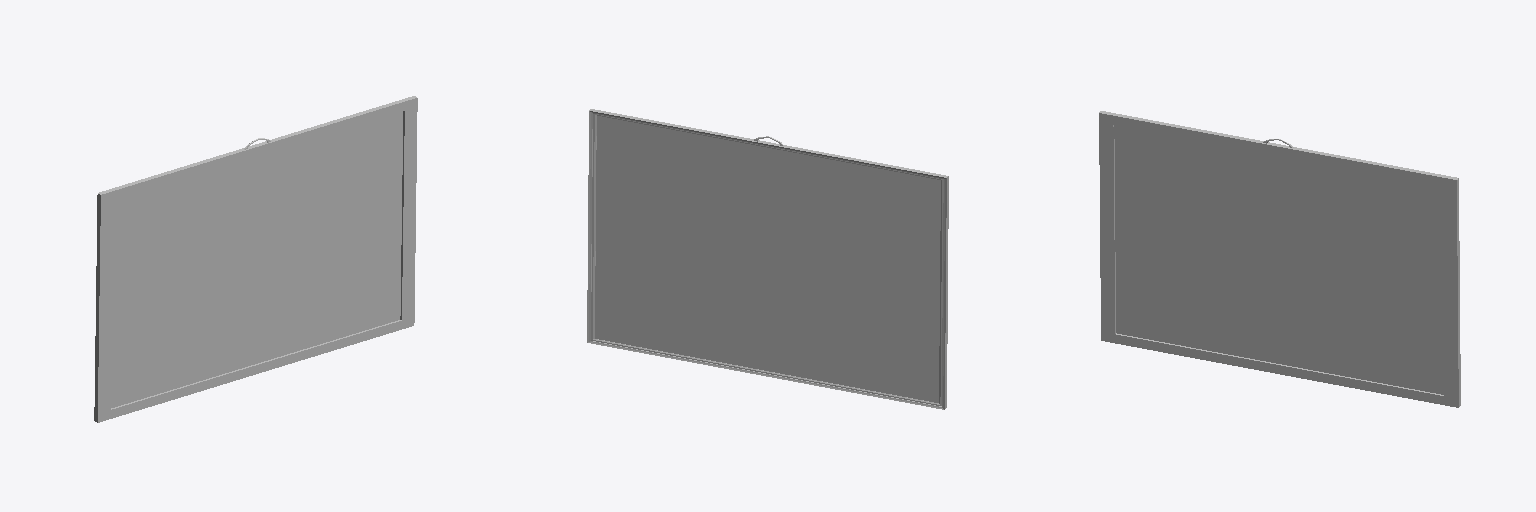
The model's file is painting-2.obj.
The picture shows the model from 3 angles: view 1: azimuth 30°, elevation 25°; view 2: azimuth 150°, elevation 25°; view 3: azimuth 330°, elevation 25°; orthographic projection.
Parts seen in each view (by area): view 1: backFace, paintingFrame; view 2: frontFace, paintingFrame; view 3: backFace, paintingFrame.
Boxes of the visible parts, x1=… form: backFace: x1=111, y1=111, x2=402, y2=407; paintingFrame: x1=94, y1=96, x2=417, y2=422; frontFace: x1=595, y1=116, x2=940, y2=402; paintingFrame: x1=587, y1=109, x2=948, y2=409; backFace: x1=1114, y1=125, x2=1443, y2=394; paintingFrame: x1=1099, y1=111, x2=1460, y2=407.
Bounding box in the file's own units: 2.22 × 1.48 × 0.2942.